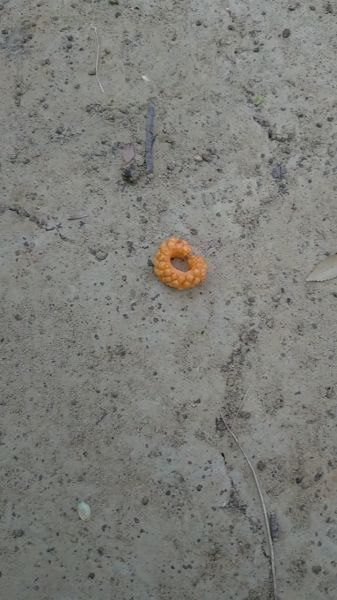eggs: (148, 233, 215, 296)
